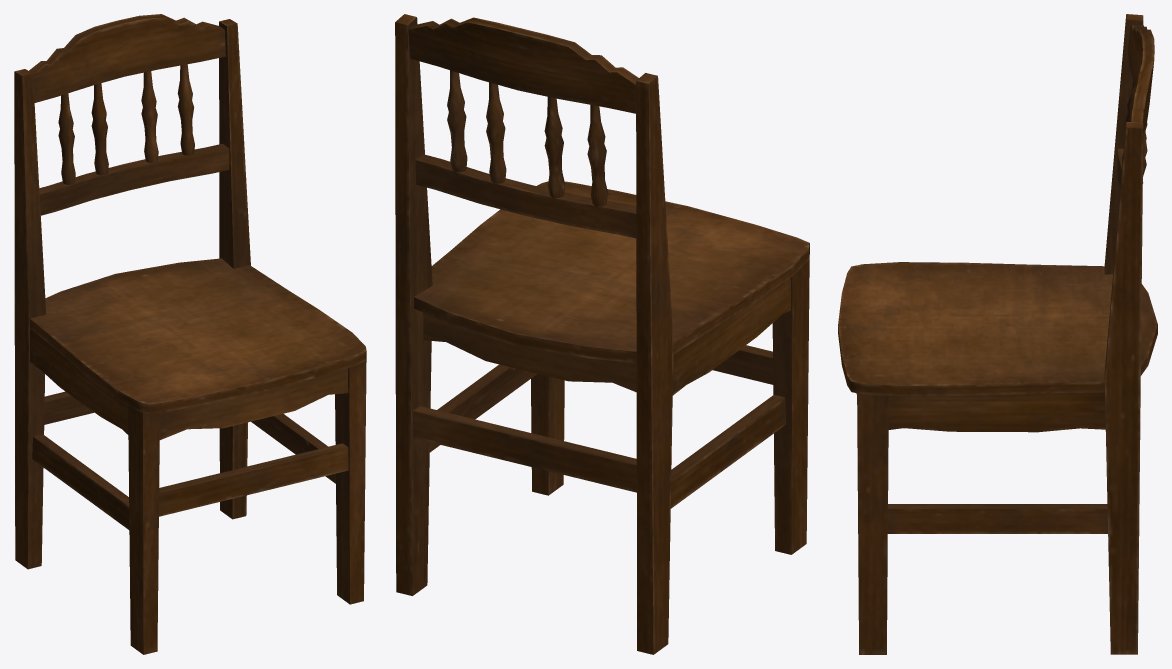
Rendered from OldWoodChair.fbx.
3 renders of one model, left to right at view 1: azimuth 30°, elevation 25°; view 2: azimuth 150°, elevation 25°; view 3: azimuth 270°, elevation 25°, orthographic. The views are drawn at different scales.
Visible parts, largest first — view 1: old_wooden_chair; view 2: old_wooden_chair; view 3: old_wooden_chair.
Part boxes in pixels (x1,y1,x2,y2): old_wooden_chair: (14, 14, 366, 654); old_wooden_chair: (395, 14, 809, 654); old_wooden_chair: (838, 14, 1157, 654).
Size of the model in its own units: 0.8377 by 1.72 by 0.9131.
1 material, 1 textured.
